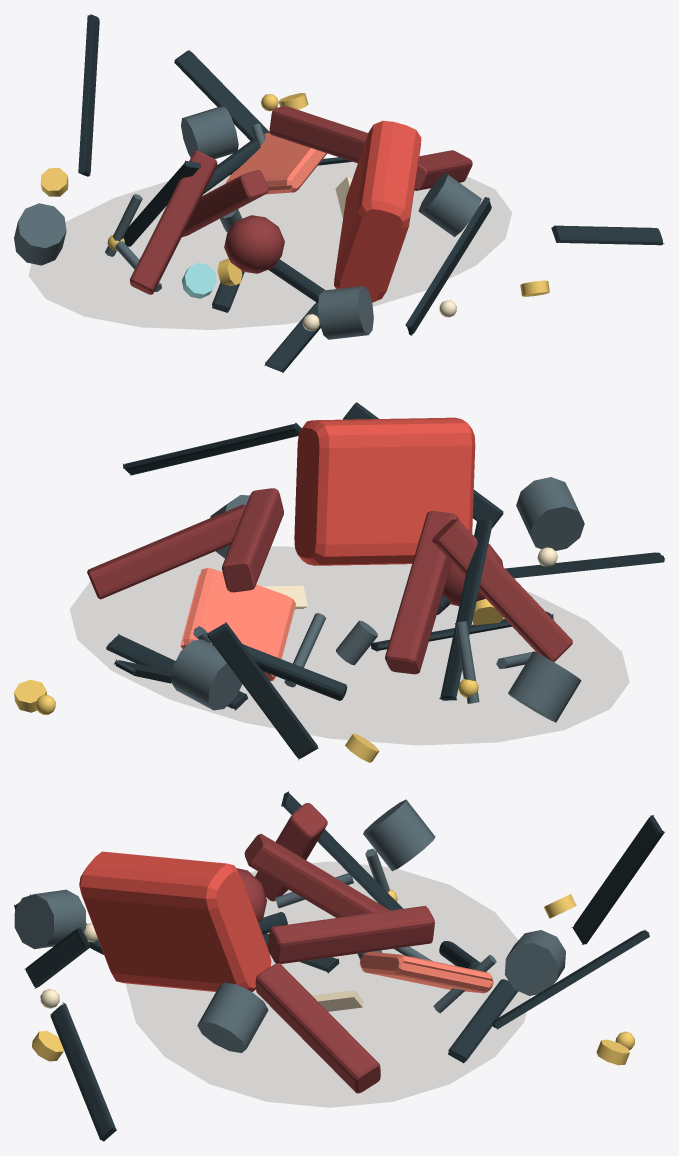
File: drone-red-broken.glb
The picture shows the model from 3 angles, top to bottom: view 1: azimuth 30°, elevation 25°; view 2: azimuth 150°, elevation 25°; view 3: azimuth 270°, elevation 25°; orthographic projection. The views are drawn at different scales.
Visible parts, largest first — view 1: settled-toy-pieces (×8), impact-mark; view 2: settled-toy-pieces (×7), impact-mark; view 3: settled-toy-pieces (×7), impact-mark.
Boxes of the visible parts, x1=… form: settled-toy-pieces (×8): x1=14, y1=14, x2=664, y2=372; impact-mark: x1=29, y1=162, x2=511, y2=329; settled-toy-pieces (×7): x1=14, y1=402, x2=664, y2=762; impact-mark: x1=70, y1=546, x2=629, y2=744; settled-toy-pieces (×7): x1=14, y1=791, x2=664, y2=1141; impact-mark: x1=126, y1=861, x2=530, y2=1107.
Bounding box in the file's own units: 2.53 × 0.6566 × 2.46.
